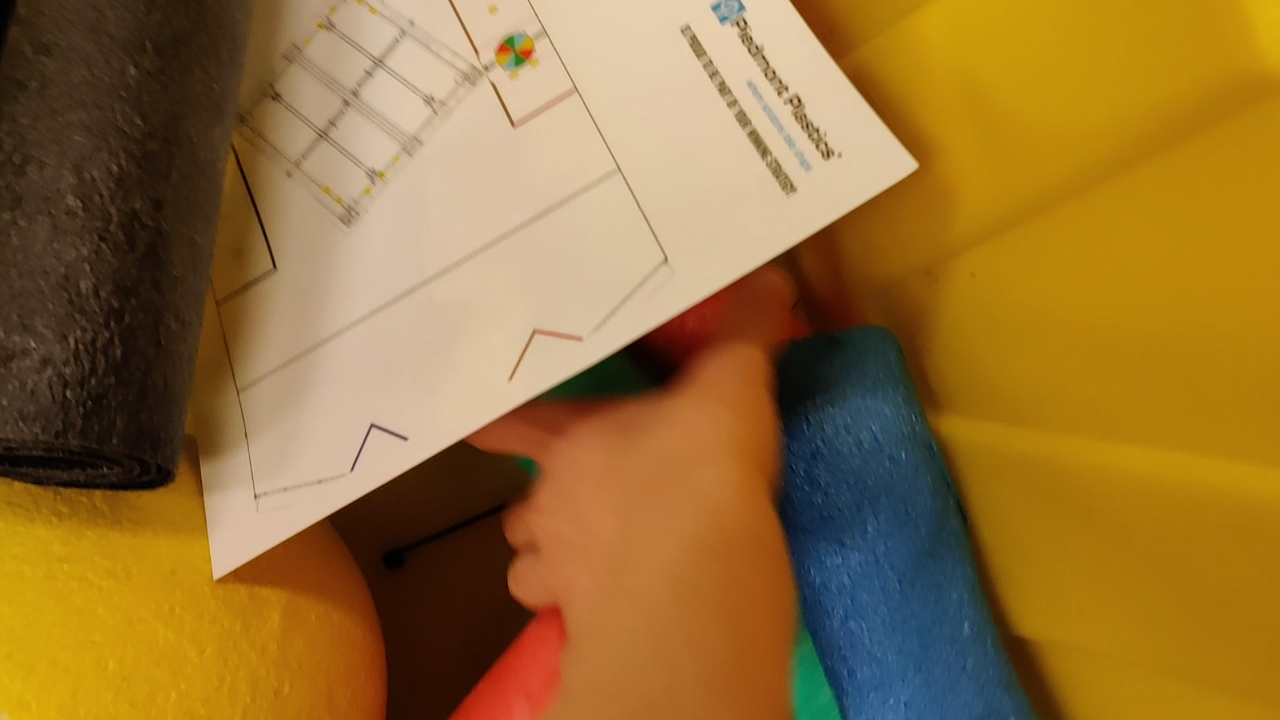Ball: (1, 431, 389, 717)
